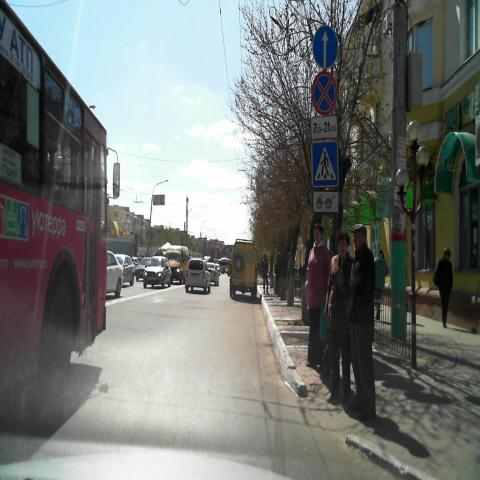4_1_1: (312, 24, 338, 69)
8_15: (312, 191, 339, 213)
8_5_4: (310, 116, 337, 138)
